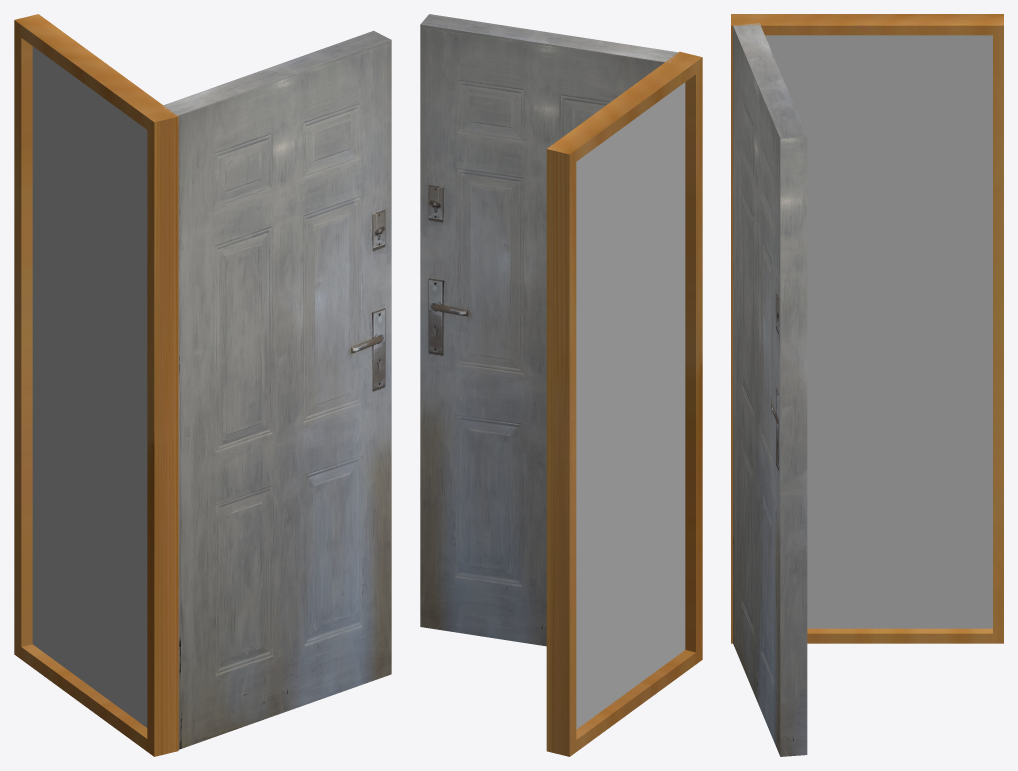
Rendered from door.obj.
3 views of the same model, side by side, from view 1: azimuth 30°, elevation 25°; view 2: azimuth 150°, elevation 25°; view 3: azimuth 270°, elevation 25° (orthographic). The views are drawn at different scales.
Parts seen in each view (by area): view 1: Cube.001, Cube; view 2: Cube, Cube.001; view 3: Cube, Cube.001.
Boxes of the visible parts, <box> form: Cube.001: <box>163,30,391,749</box>; Cube: <box>14,14,178,756</box>; Cube: <box>546,51,702,756</box>; Cube.001: <box>420,14,678,646</box>; Cube: <box>731,14,1003,643</box>; Cube.001: <box>733,23,807,756</box>.
Bounding box in the file's own units: 2.17 × 5 × 2.
